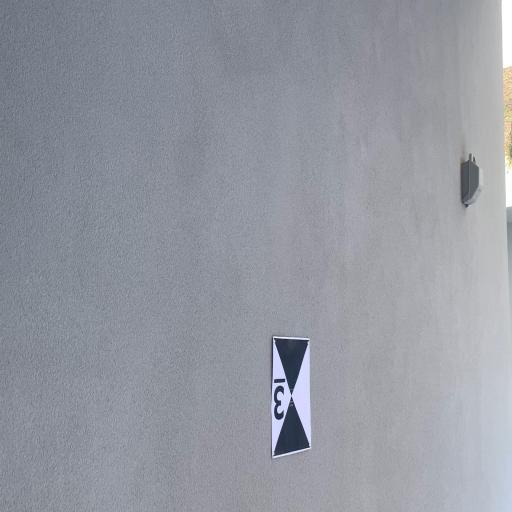target3: (271, 334, 314, 462)
